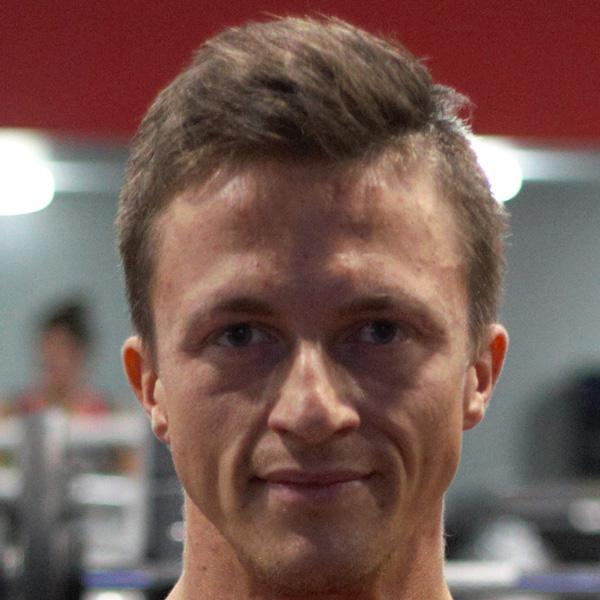Eyes: (331, 304, 421, 365), (192, 306, 290, 361)
